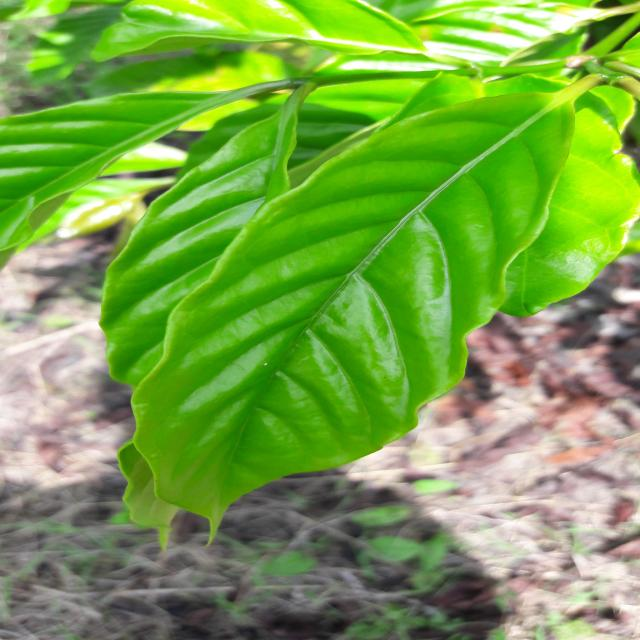Sanas: (118, 86, 637, 543)
